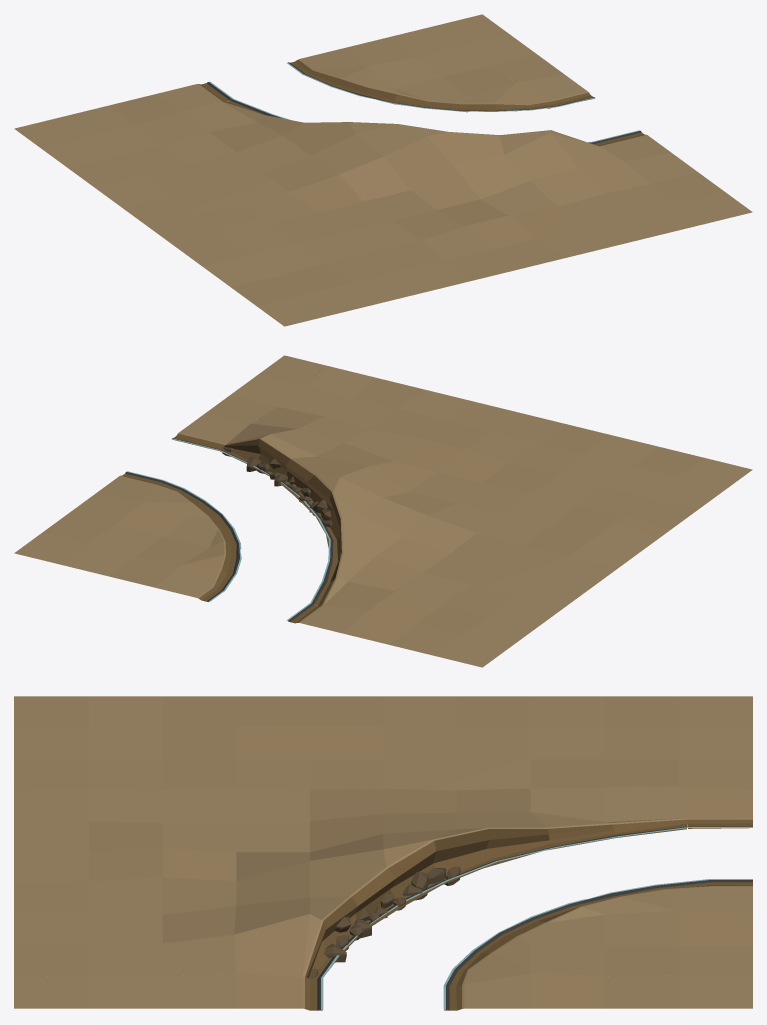
The model's file is model_road_dirtcornor_2_.fbx.
The picture shows the model from 3 angles, top to bottom: view 1: azimuth 30°, elevation 25°; view 2: azimuth 150°, elevation 25°; view 3: azimuth 270°, elevation 25°; orthographic projection. The views are drawn at different scales.
Visible parts, largest first — view 1: model_road_dirt_cornor_2; view 2: model_road_dirt_cornor_2; view 3: model_road_dirt_cornor_2.
Boxes of the visible parts, bbox=[...] form: model_road_dirt_cornor_2: bbox=[14, 14, 752, 326]; model_road_dirt_cornor_2: bbox=[14, 355, 752, 667]; model_road_dirt_cornor_2: bbox=[14, 696, 752, 1010].
Size of the model in its own units: 0.6162 by 0.6161 by 0.0421.
